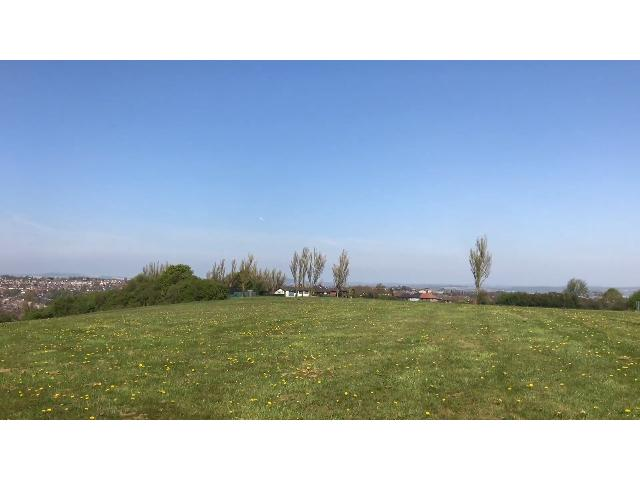Anti-Drone: (249, 211, 273, 223)
